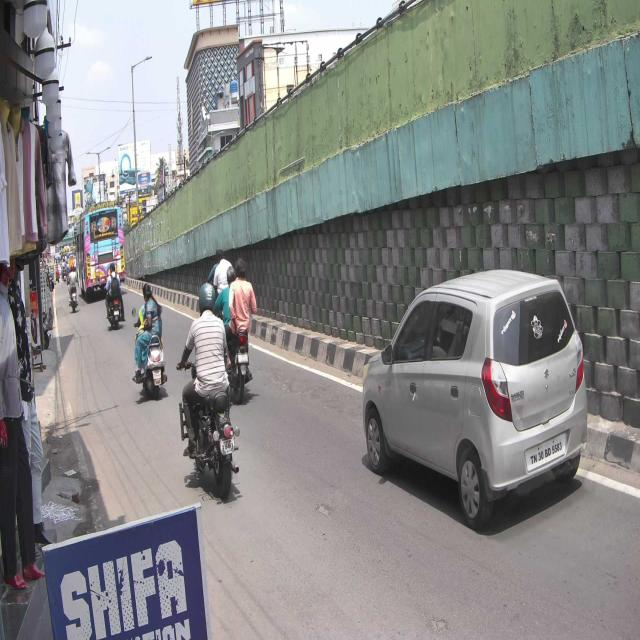single_rider: (176, 282, 242, 497)
